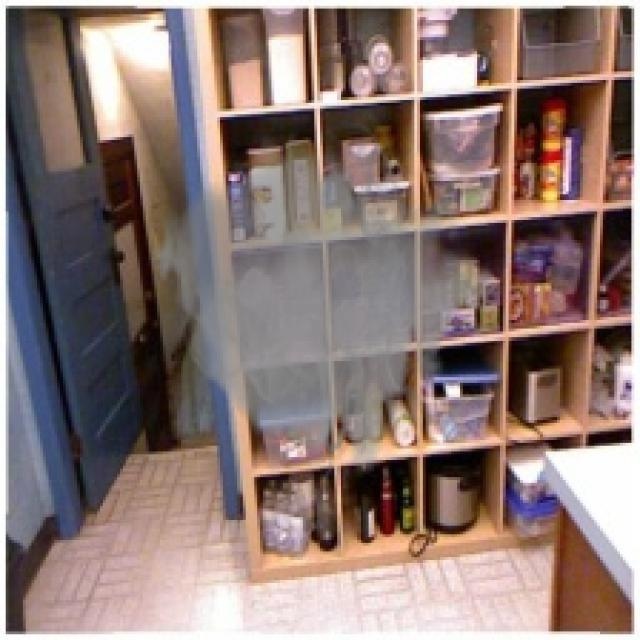Smoke: (152, 102, 497, 488)
